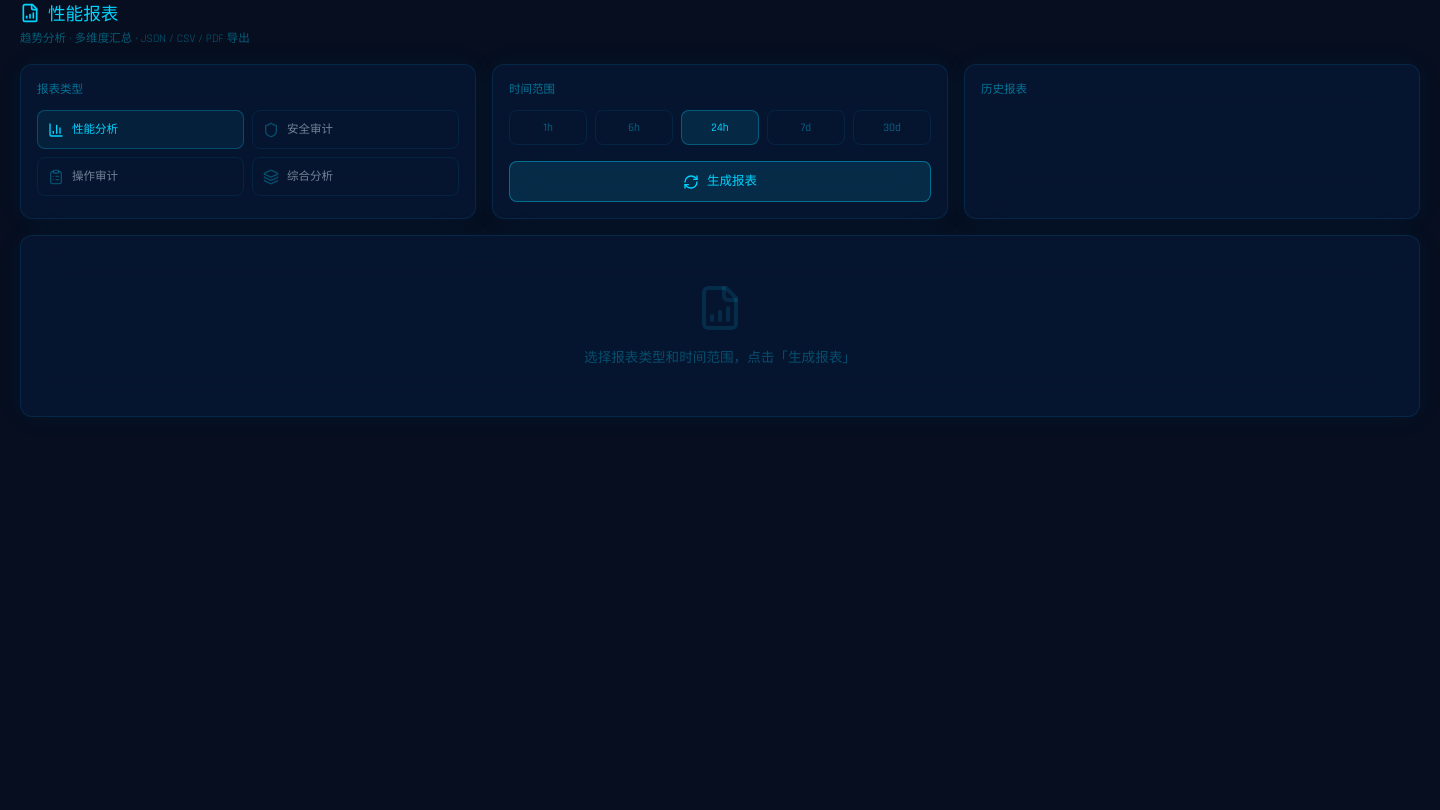
Test case: ReportExporter › generates a report on click
The width and height of the screenshot is (1440, 810).
Step 1. Click the button "生成报表" → (720, 182), box [509,161,931,202]
(page scrolled)
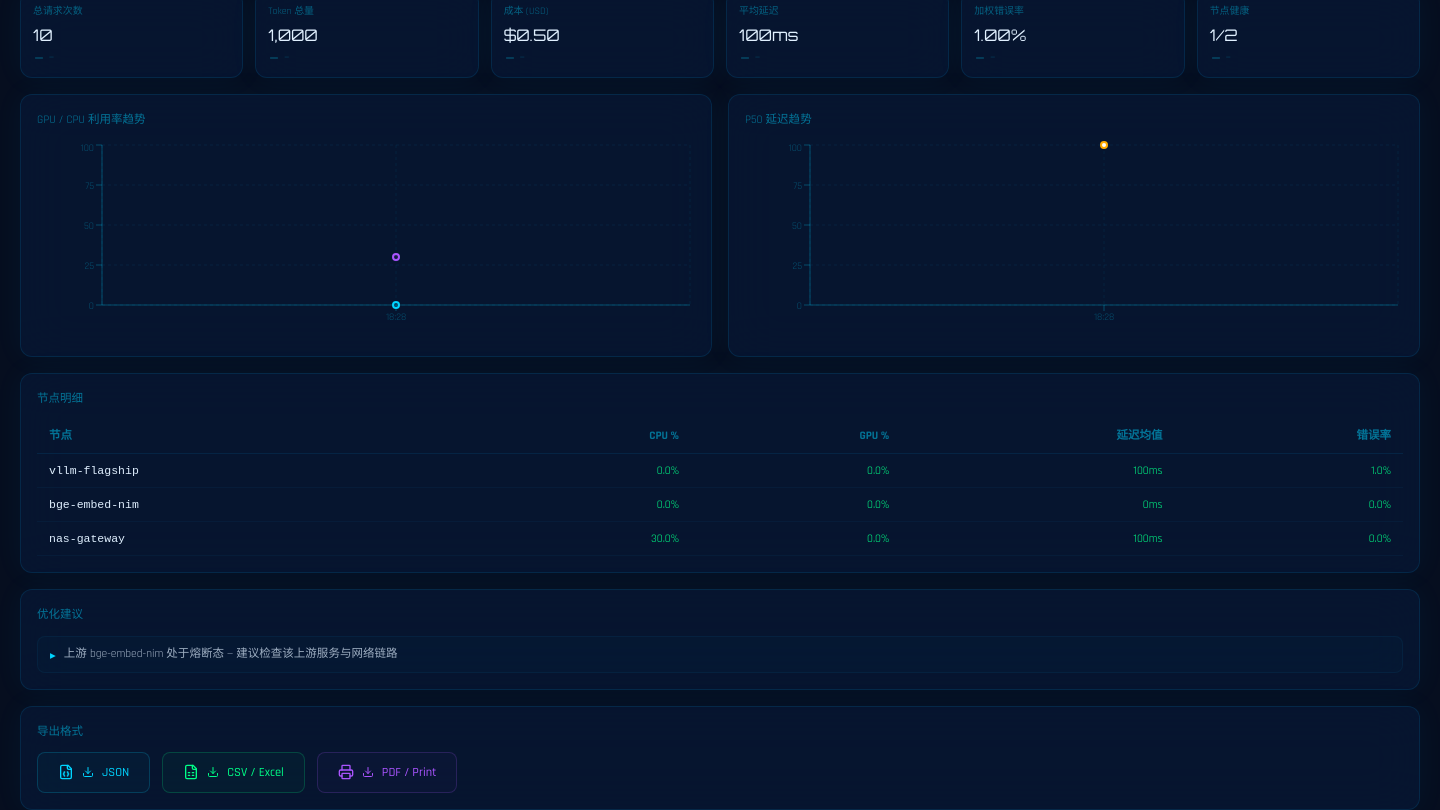
Now the text "节点明细" is shown, box [37,391,83,406]
Now the text "优化建议" is shown, box [37,607,83,622]
Now the text "导出格式" is shown, box [37,724,83,739]
